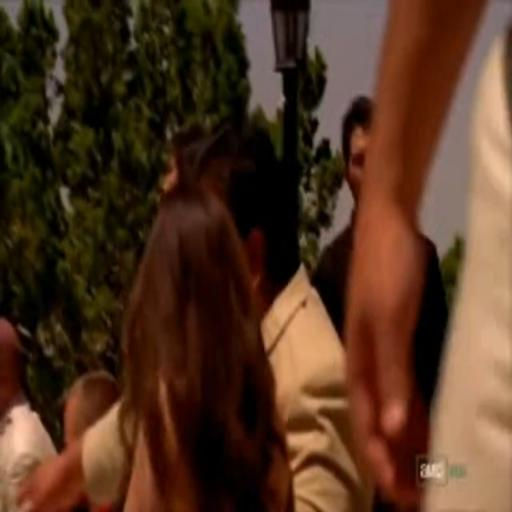nao-violencia: (84, 108, 330, 512)
